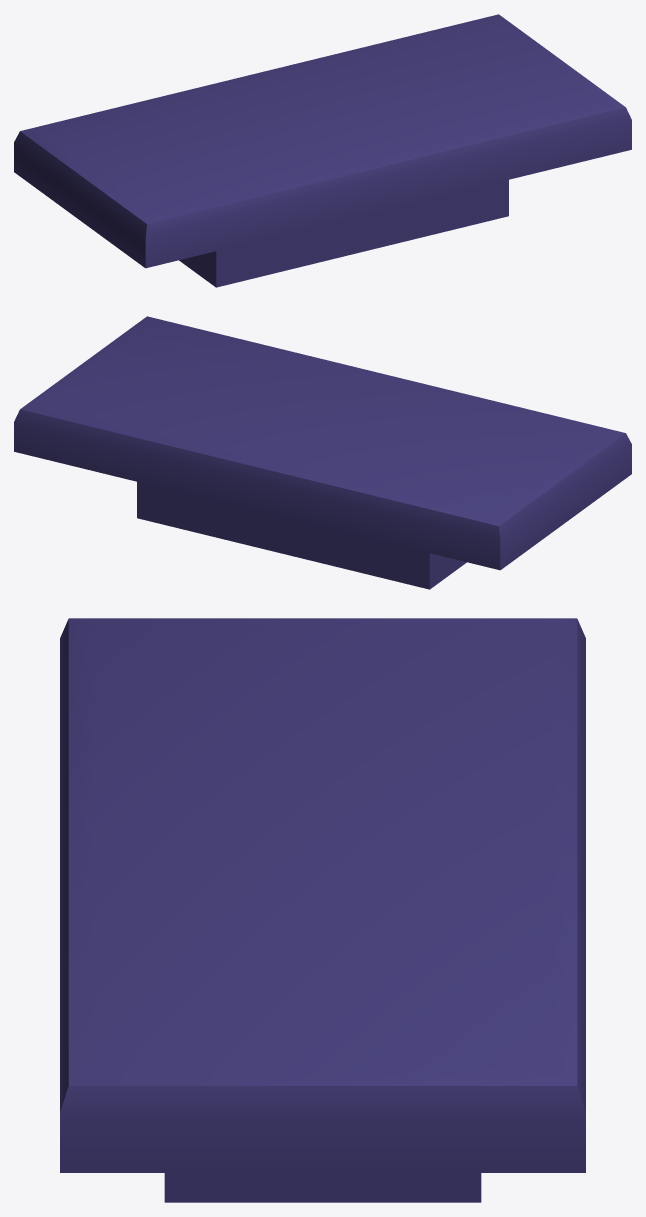
Rendered from SM_Library_TableReading.fbx.
The picture shows the model from 3 angles, top to bottom: view 1: azimuth 30°, elevation 25°; view 2: azimuth 150°, elevation 25°; view 3: azimuth 270°, elevation 25°; orthographic projection. The views are drawn at different scales.
Visible parts, largest first — view 1: SM_Library_TableReading; view 2: SM_Library_TableReading; view 3: SM_Library_TableReading.
Part boxes in pixels (left/top/right/bottom): SM_Library_TableReading: left=14, top=14, right=631, bottom=287; SM_Library_TableReading: left=14, top=316, right=631, bottom=589; SM_Library_TableReading: left=60, top=618, right=585, bottom=1202.
Size of the model in its own units: 284 by 59.99 by 133.
